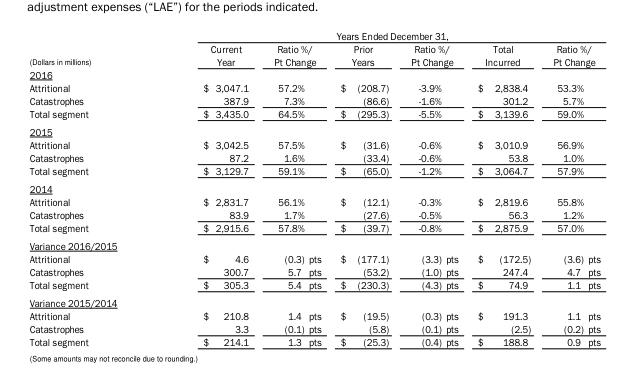table: (28, 29, 599, 347)
table column: (28, 29, 146, 347), (146, 29, 260, 347), (467, 29, 541, 347), (330, 29, 399, 347), (260, 29, 305, 347), (399, 29, 443, 347), (541, 29, 585, 347), (305, 29, 330, 347), (443, 29, 467, 347), (585, 29, 599, 347)
table column header: (28, 29, 599, 67)
table projected row header: (28, 122, 599, 137), (28, 179, 599, 194), (28, 236, 599, 251), (28, 293, 599, 308), (28, 67, 599, 80)
table row: (28, 41, 599, 67), (28, 106, 599, 122), (28, 163, 599, 179), (28, 220, 599, 236), (28, 277, 599, 293), (28, 122, 599, 137), (28, 179, 599, 194), (28, 236, 599, 251), (28, 293, 599, 308), (28, 67, 599, 80), (28, 80, 599, 93), (28, 93, 599, 106), (28, 137, 599, 150), (28, 150, 599, 163), (28, 194, 599, 207), (28, 207, 599, 220), (28, 251, 599, 264), (28, 264, 599, 277), (28, 308, 599, 321), (28, 321, 599, 334), (28, 334, 599, 347), (28, 29, 599, 41)
table spanning cell: (146, 29, 599, 41), (28, 29, 146, 67), (260, 41, 330, 67), (399, 41, 467, 67), (541, 41, 599, 67)
